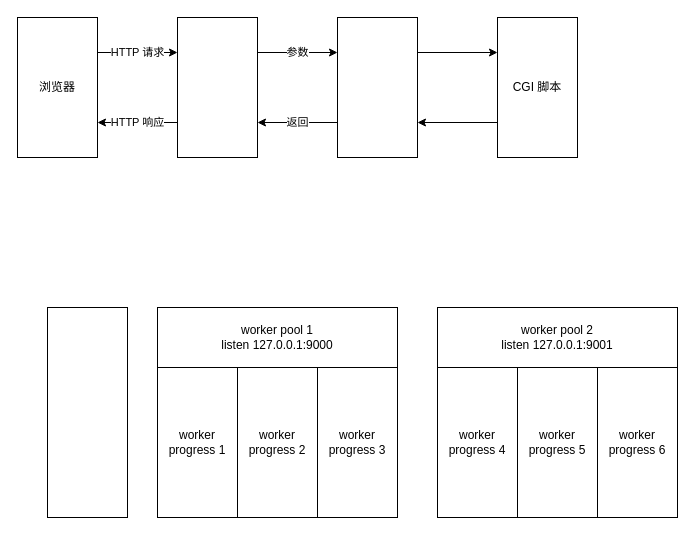
Some shapes in this 695 by 535 pixel diagram are drawn without their labels. The shapes that lost their labels are listed below. From the top down, each one's centre as x and y in pixels, then its label:
At point 217,87: "web 服务器".
At point 377,87: "FastCGI 程序".
At point 87,412: "master progress".
